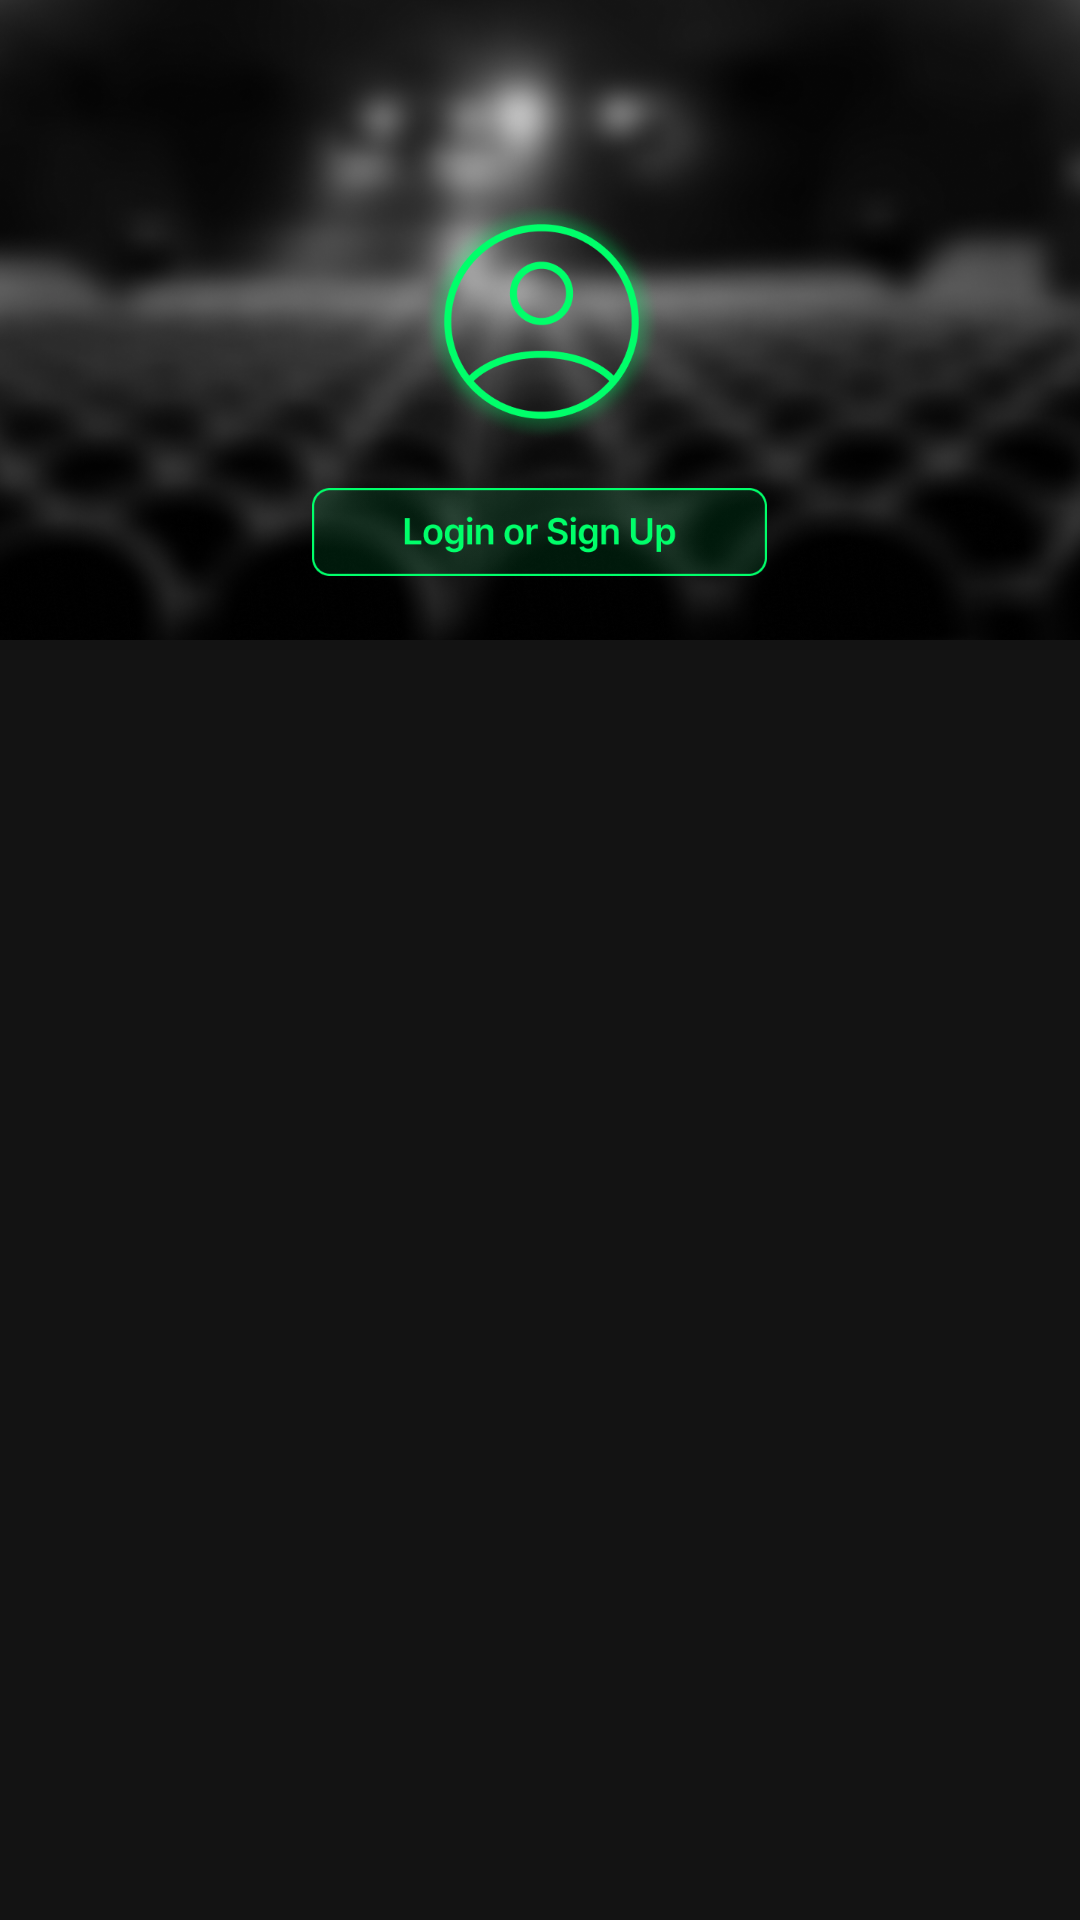

Point at icon controls on the screen. Image size 1080×1920, points as (x,y).
profile circled: (540,320)
